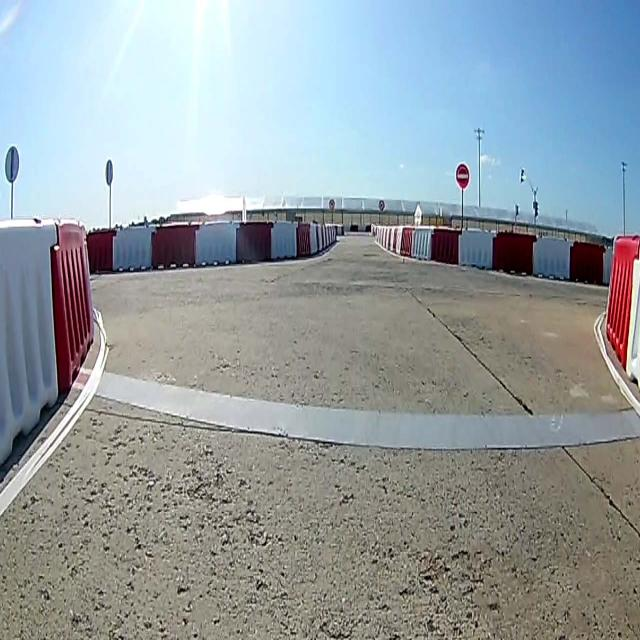girisyok: (453, 160, 472, 190)
